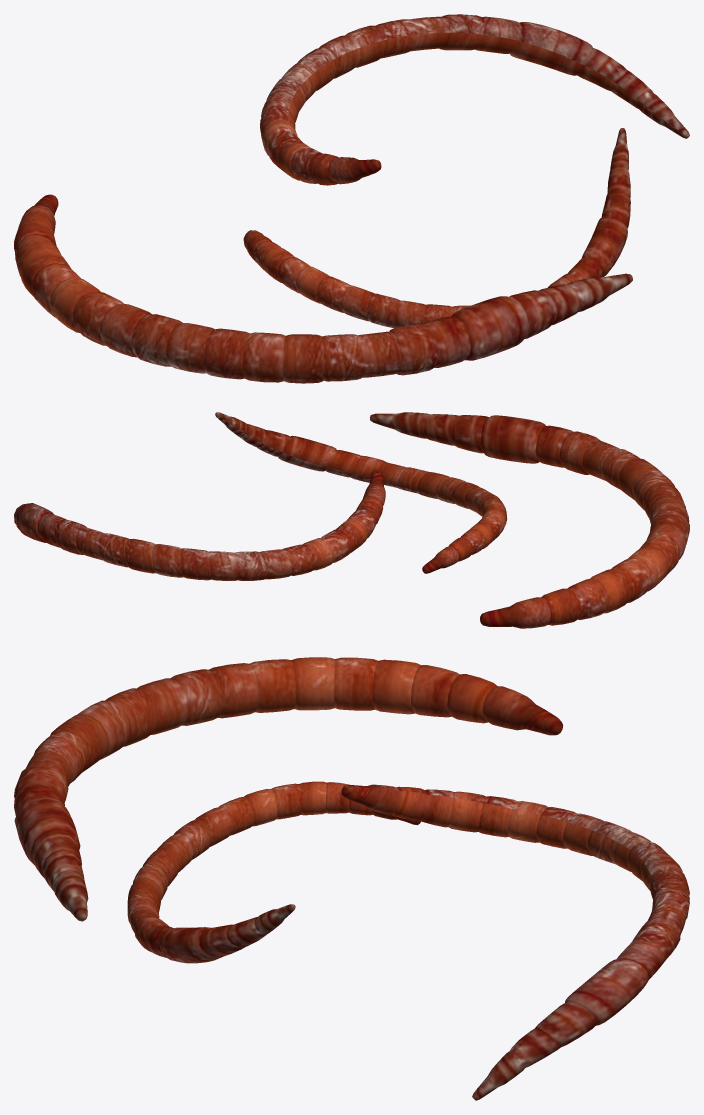
Rendered from worm.gltf.
The picture shows the model from 3 angles, top to bottom: view 1: azimuth 30°, elevation 25°; view 2: azimuth 150°, elevation 25°; view 3: azimuth 270°, elevation 25°; orthographic projection. The views are drawn at different scales.
Visible parts, largest first — view 1: worm4, worm3, worm2; view 2: worm4, worm3, worm2; view 3: worm4, worm3, worm2.
Part boxes in pixels (bbox=[...]): worm4: bbox=[14, 194, 632, 383]; worm3: bbox=[260, 14, 689, 185]; worm2: bbox=[243, 128, 630, 327]; worm4: bbox=[370, 412, 689, 628]; worm3: bbox=[14, 469, 385, 580]; worm2: bbox=[215, 412, 507, 573]; worm4: bbox=[14, 657, 563, 921]; worm3: bbox=[341, 784, 689, 1100]; worm2: bbox=[127, 781, 420, 963].
Size of the model in its own units: 0.0739 by 0.0112 by 0.057.
1 material, 1 textured.
